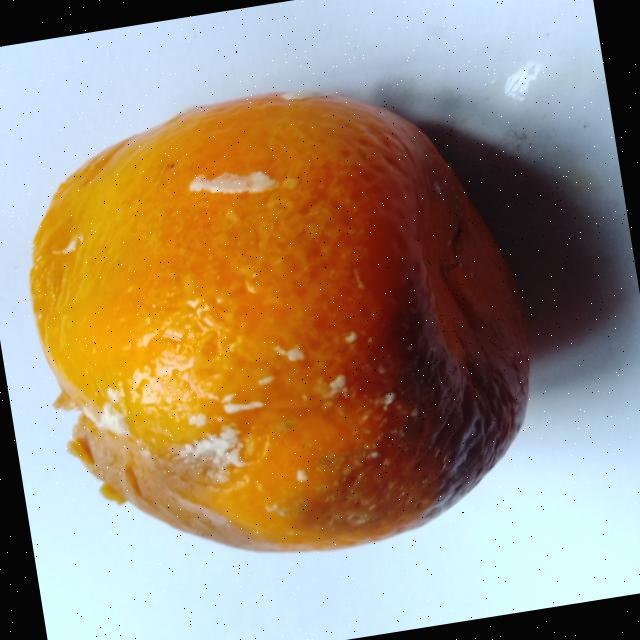Rotten: (1, 59, 562, 592)
